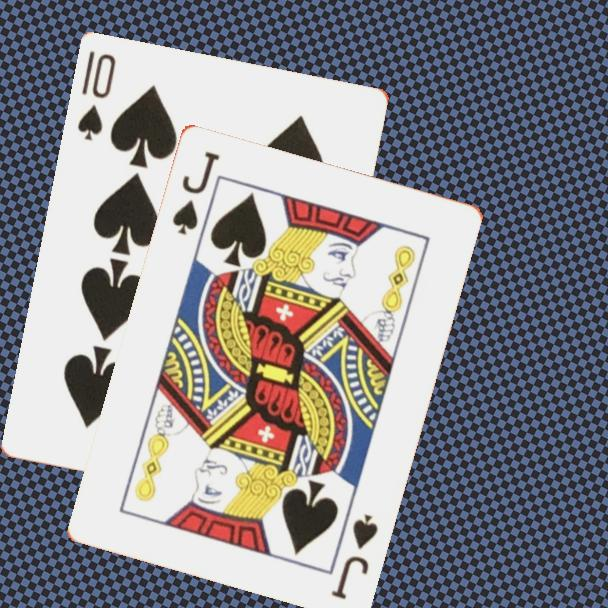s10: (74, 48, 119, 144)
s11: (327, 510, 381, 602), (168, 147, 222, 238)
